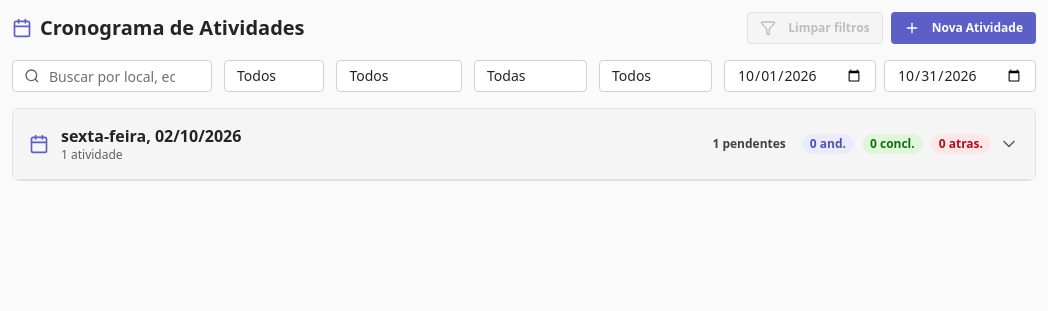
Test: CronogramaView — renderização › mostra local, tipo, equipe e status na linha
What coordinates should you click on to do the following:
click the 3rd button
I would click on:
 (151, 136)
Its box is [13, 109, 1035, 180].
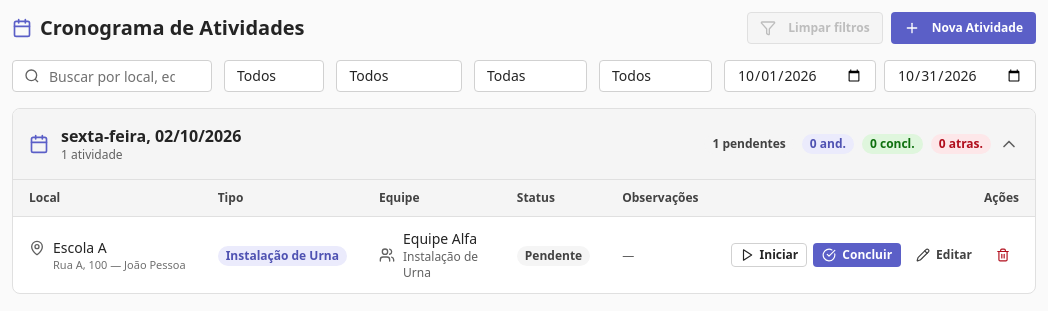
Check: the text "Instalação de Urna" is shown 2 times, box [218, 246, 347, 266]; [403, 249, 485, 281]
Check: the text "Equipe Alfa" is shown, box [403, 229, 485, 249]
Check: the text "Pendente" is shown, box [517, 246, 590, 266]
